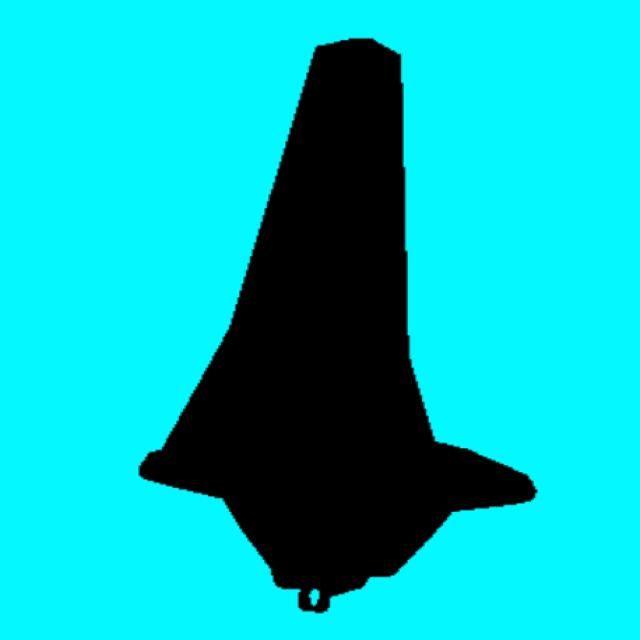BlackBuoy: (141, 39, 535, 612)
